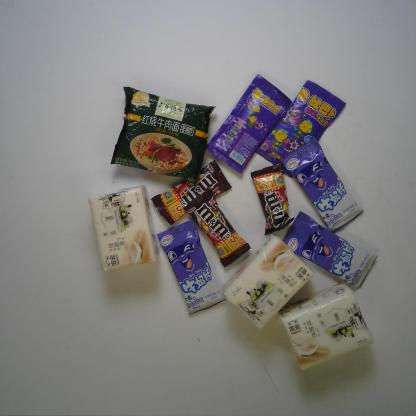Candy: (254, 79, 347, 179), (206, 73, 293, 175), (280, 137, 364, 233), (283, 210, 378, 292), (157, 218, 228, 316)
Chocolate: (182, 188, 252, 270), (150, 159, 234, 226), (250, 162, 295, 236)
Instant Noodles: (110, 86, 216, 186)
Tissue: (221, 233, 316, 329), (277, 280, 375, 372), (87, 184, 160, 273)
